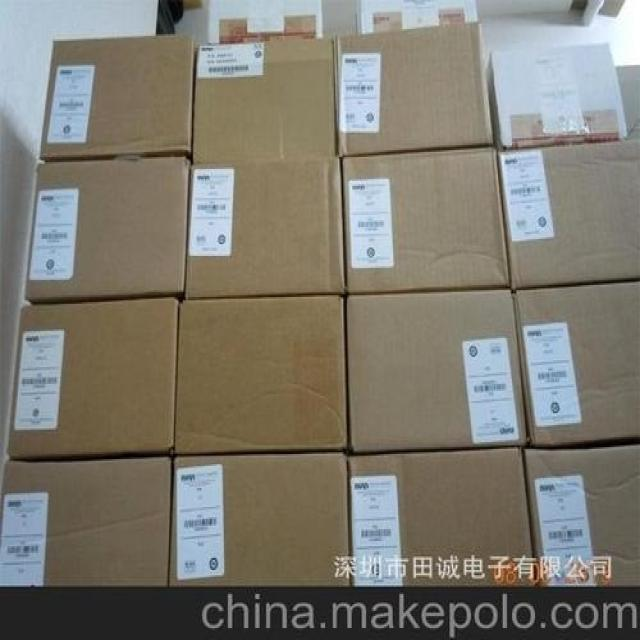box: (497, 65, 639, 288), (346, 288, 527, 452), (8, 299, 180, 459), (175, 295, 349, 452), (349, 445, 538, 587), (342, 145, 509, 295), (24, 157, 192, 305), (168, 452, 352, 587), (0, 452, 174, 587), (184, 159, 346, 299), (332, 22, 494, 159), (511, 280, 639, 444), (40, 34, 195, 162), (192, 38, 338, 164), (524, 440, 640, 585), (486, 41, 630, 152), (207, 0, 325, 43), (353, 0, 479, 36)
